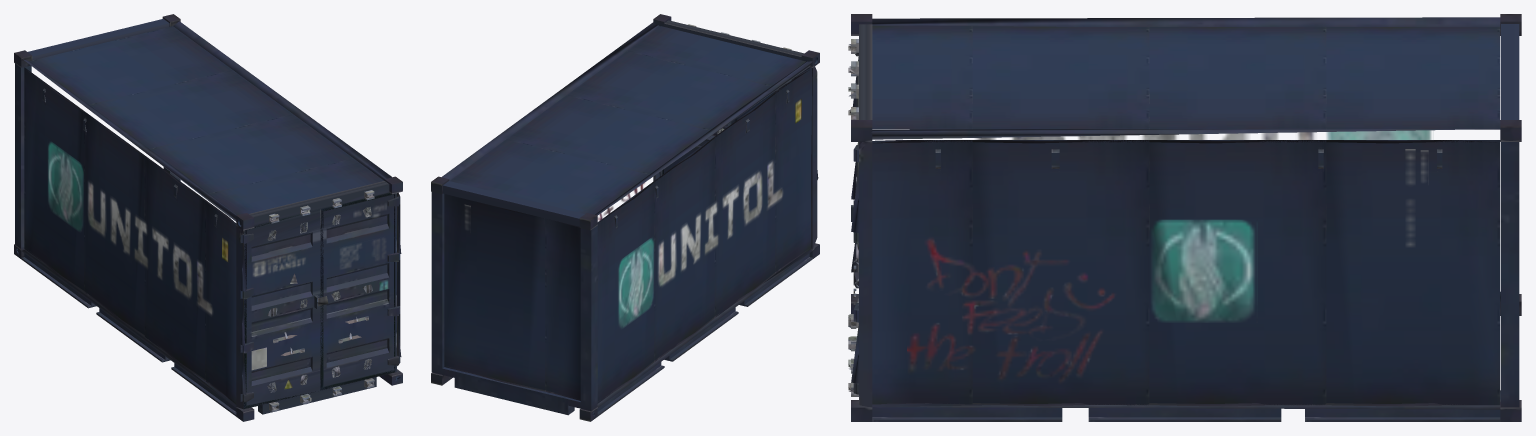
File: shipping_container_01.glb
The picture shows the model from 3 angles, left to right: view 1: azimuth 30°, elevation 25°; view 2: azimuth 150°, elevation 25°; view 3: azimuth 270°, elevation 25°; orthographic projection. The views are drawn at different scales.
Visible parts, largest first — view 1: Container; view 2: Container; view 3: Container.
Boxes of the visible parts, bbox=[...] form: Container: bbox=[14, 14, 402, 421]; Container: bbox=[431, 14, 819, 421]; Container: bbox=[848, 14, 1521, 421].
Bounding box in the file's own units: 2.41 × 2.9 × 6.01.
Materials: 2 (2 with a texture image).
